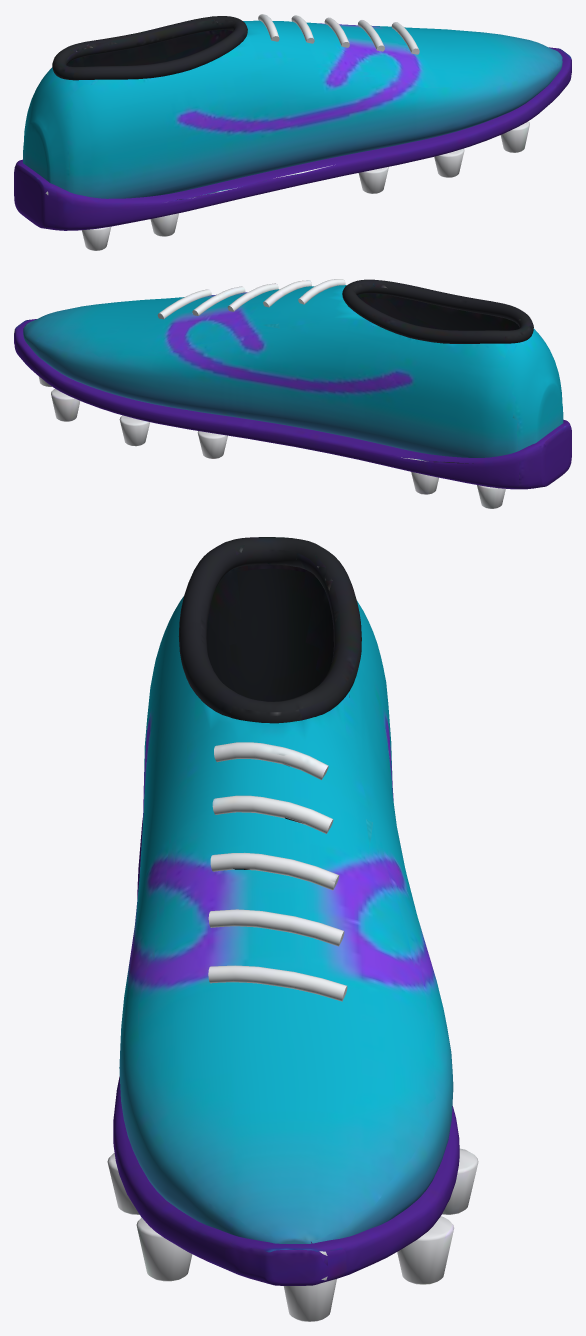
Rendered from boot-curl.glb.
3 renders of one model, top to bottom at view 1: azimuth 30°, elevation 25°; view 2: azimuth 150°, elevation 25°; view 3: azimuth 270°, elevation 25°, orthographic. The views are drawn at different scales.
Parts seen in each view (by area): view 1: boot-curl; view 2: boot-curl; view 3: boot-curl.
Boxes of the visible parts, x1,y1,x2,y2 form: boot-curl: (14, 14, 571, 250); boot-curl: (14, 279, 571, 508); boot-curl: (107, 537, 478, 1321).
Bounding box in the file's own units: 0.298 × 0.0912 × 0.0901.
6 materials, 6 textured.
